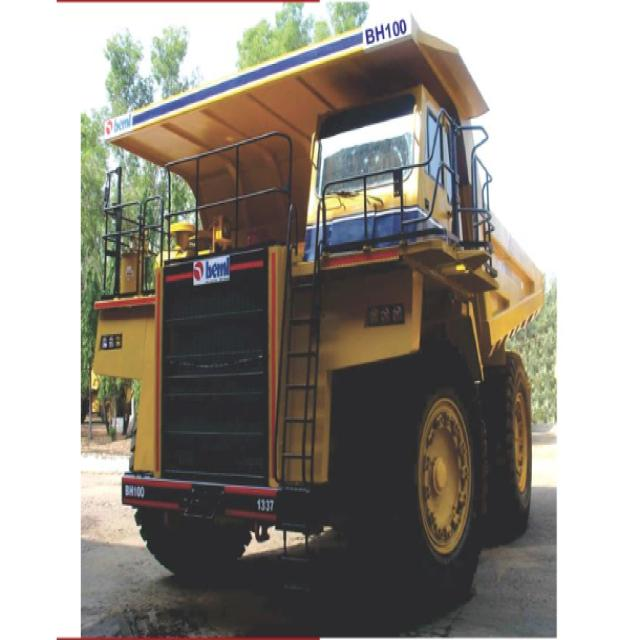dump_truck: (88, 16, 550, 601)
